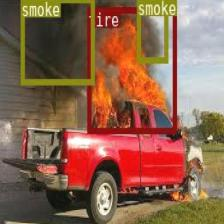fire: (87, 7, 176, 133)
smoke: (20, 0, 94, 84), (136, 0, 167, 62)
